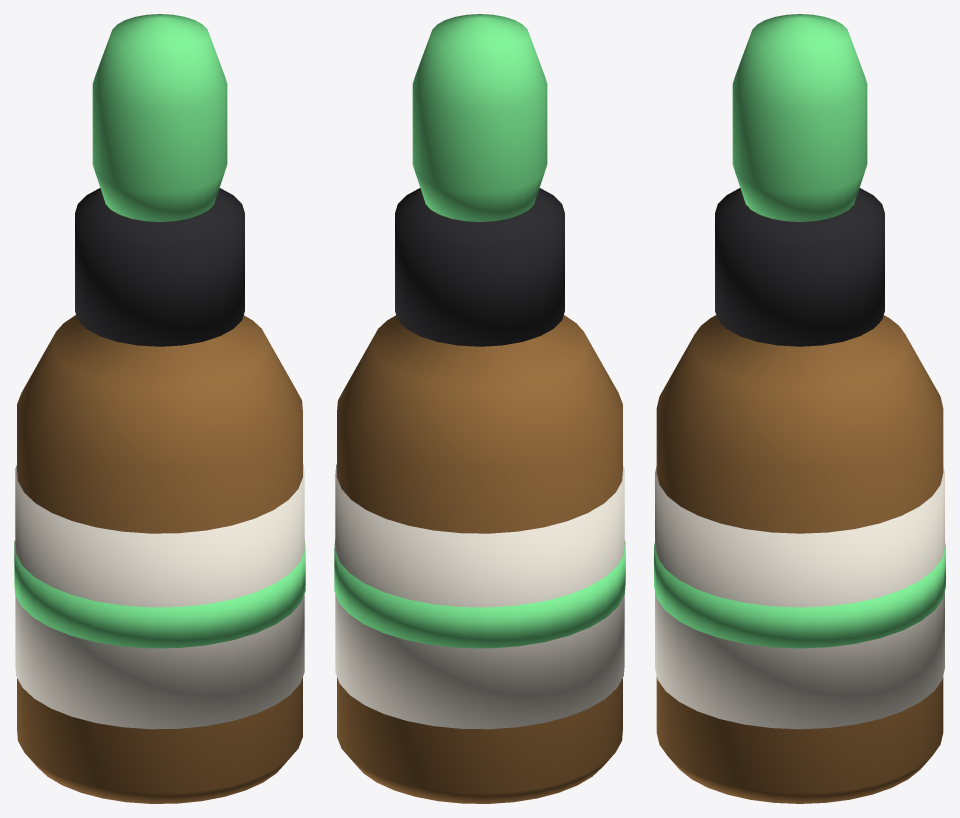
Rendered from SM_NightEye.glb.
3 views of the same model, side by side, from view 1: azimuth 30°, elevation 25°; view 2: azimuth 150°, elevation 25°; view 3: azimuth 270°, elevation 25° (orthographic).
Parts seen in each view (by area): view 1: SM_NightEye; view 2: SM_NightEye; view 3: SM_NightEye.
Boxes of the visible parts, x1,y1,x2,y2 form: SM_NightEye: [14, 14, 305, 803]; SM_NightEye: [334, 14, 625, 803]; SM_NightEye: [654, 14, 945, 803].
Size of the model in its own units: 0.0326 by 0.09 by 0.0326.
